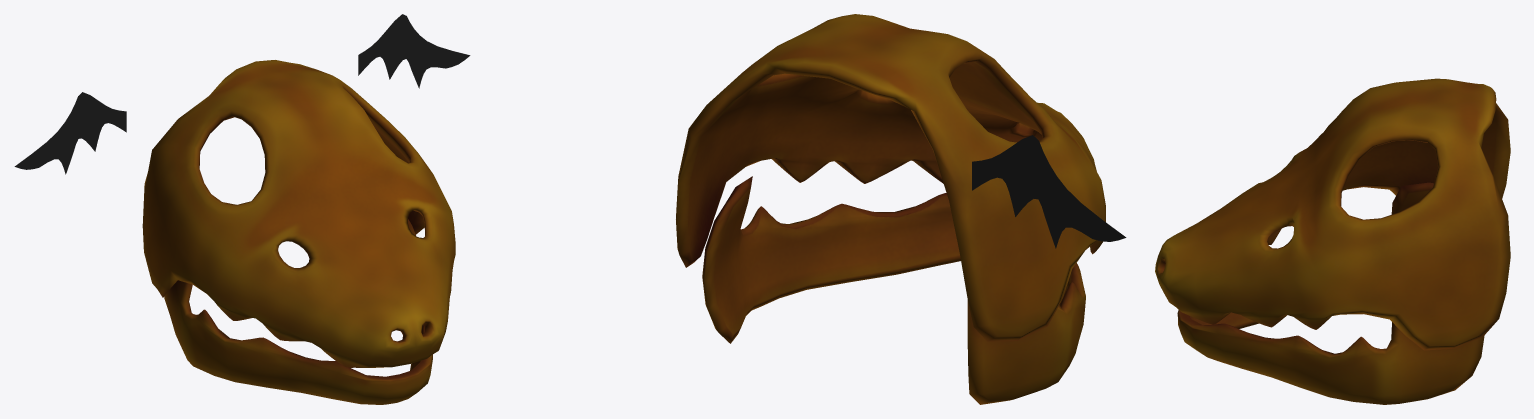
Rendered from skullHead00.fbx.
The picture shows the model from 3 angles, left to right: view 1: azimuth 30°, elevation 25°; view 2: azimuth 150°, elevation 25°; view 3: azimuth 270°, elevation 25°; orthographic projection. The views are drawn at different scales.
Parts seen in each view (by area): view 1: neurocranium_low, mandible_low, right_wing_low, left_wing_low; view 2: neurocranium_low, mandible_low, right_wing_low; view 3: neurocranium_low, mandible_low.
Part boxes in pixels (<box>): neurocranium_low: <box>142,60,455,367</box>; mandible_low: <box>164,219,432,404</box>; right_wing_low: <box>14,92,126,174</box>; left_wing_low: <box>358,14,470,88</box>; neurocranium_low: <box>676,14,1105,341</box>; mandible_low: <box>702,176,1085,404</box>; right_wing_low: <box>972,135,1126,248</box>; neurocranium_low: <box>1155,78,1510,350</box>; mandible_low: <box>1177,182,1484,404</box>.
Size of the model in its own units: 85.79 by 43.45 by 56.54.
1 material, 1 textured.
